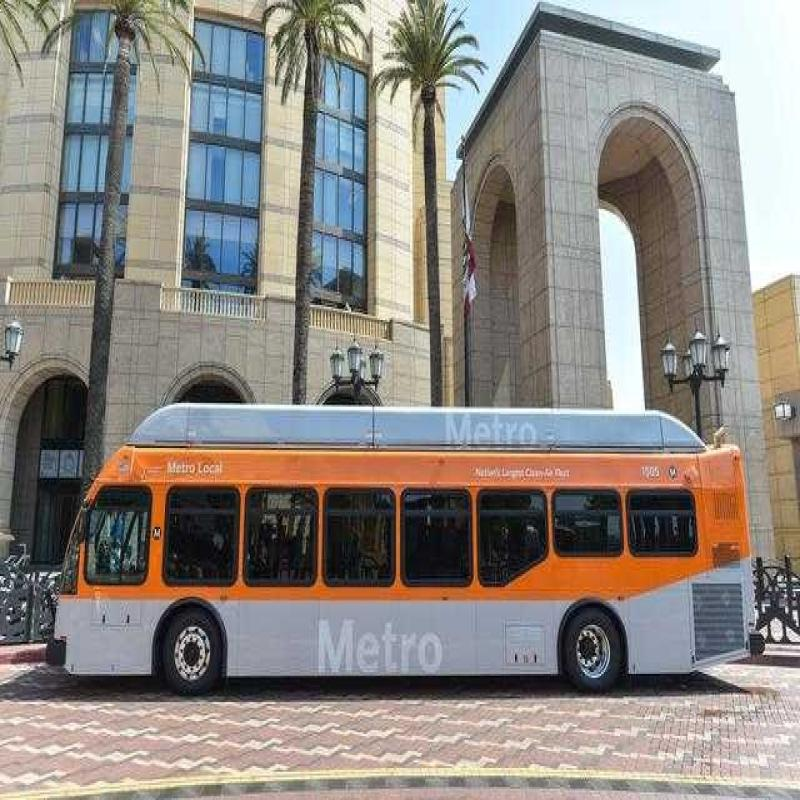bus: (36, 382, 762, 729)
